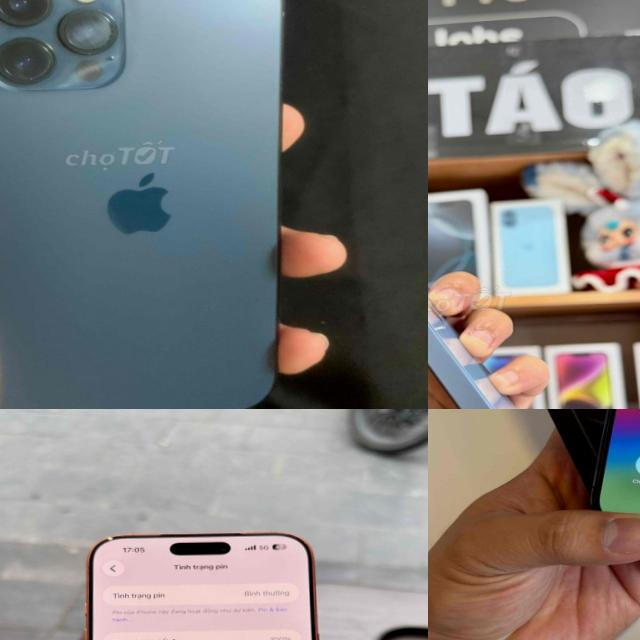gen_12_13: (0, 0, 303, 409)
gen_14: (428, 114, 592, 409)
gen_17: (69, 523, 340, 640)
